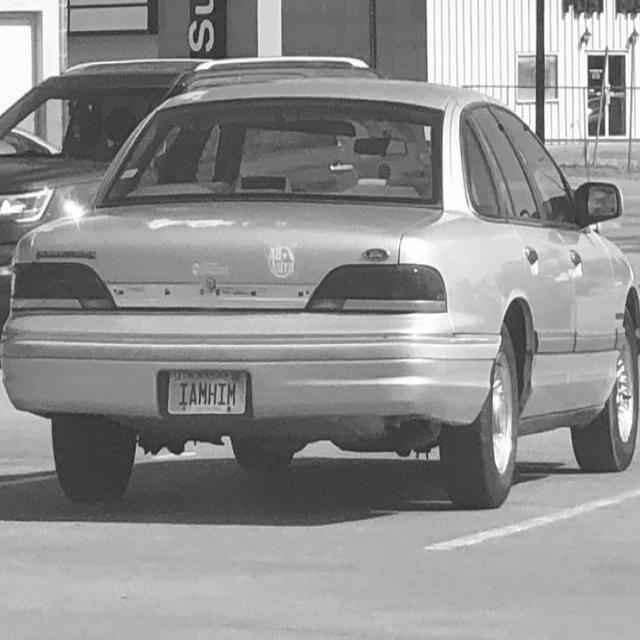LicensePlate: (167, 368, 248, 416)
